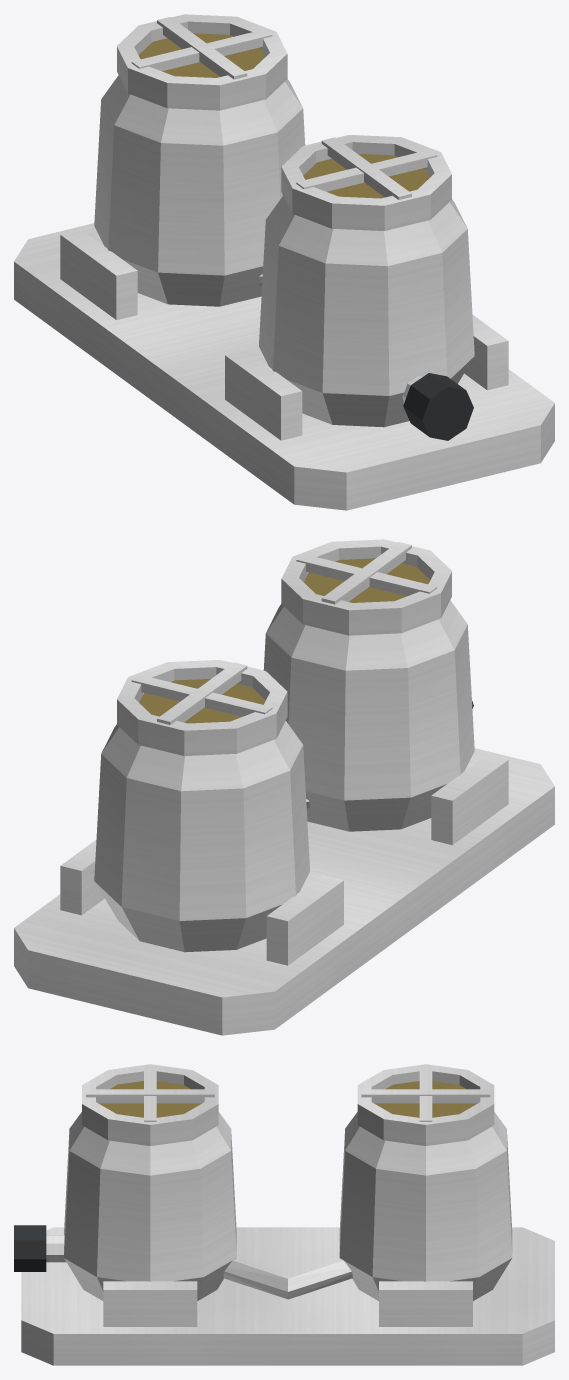
The model's file is psychofluid_pump.obj.
The picture shows the model from 3 angles, top to bottom: view 1: azimuth 30°, elevation 25°; view 2: azimuth 150°, elevation 25°; view 3: azimuth 270°, elevation 25°; orthographic projection. The views are drawn at different scales.
Visible parts, largest first — view 1: psychofluid_pump; view 2: psychofluid_pump; view 3: psychofluid_pump.
Boxes of the visible parts, x1,y1,x2,y2 form: psychofluid_pump: [14, 14, 554, 510]; psychofluid_pump: [14, 539, 554, 1035]; psychofluid_pump: [14, 1064, 554, 1365].
Bounding box in the file's own units: 0.86 × 0.83 × 1.85.
